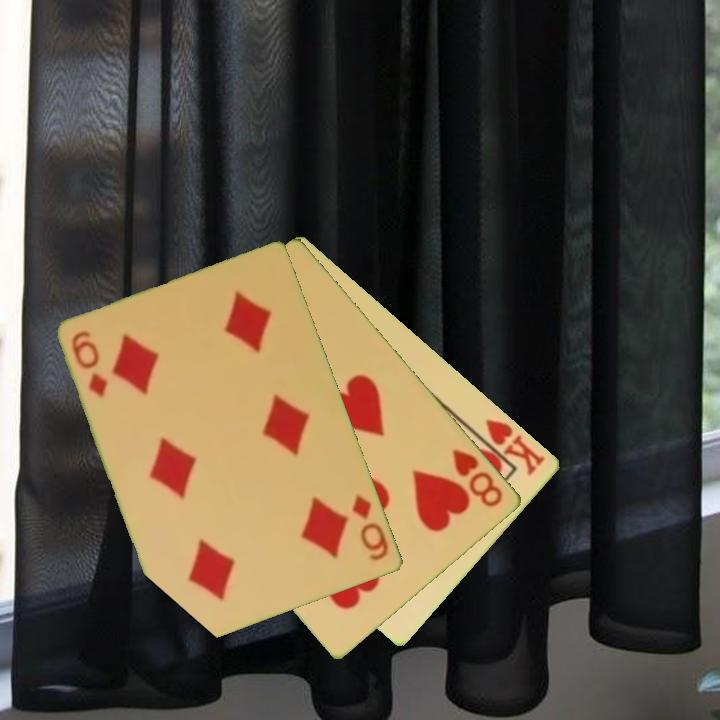6d: (68, 327, 112, 401), (349, 491, 392, 564)
8h: (449, 445, 507, 510)
Kh: (469, 415, 549, 479)
